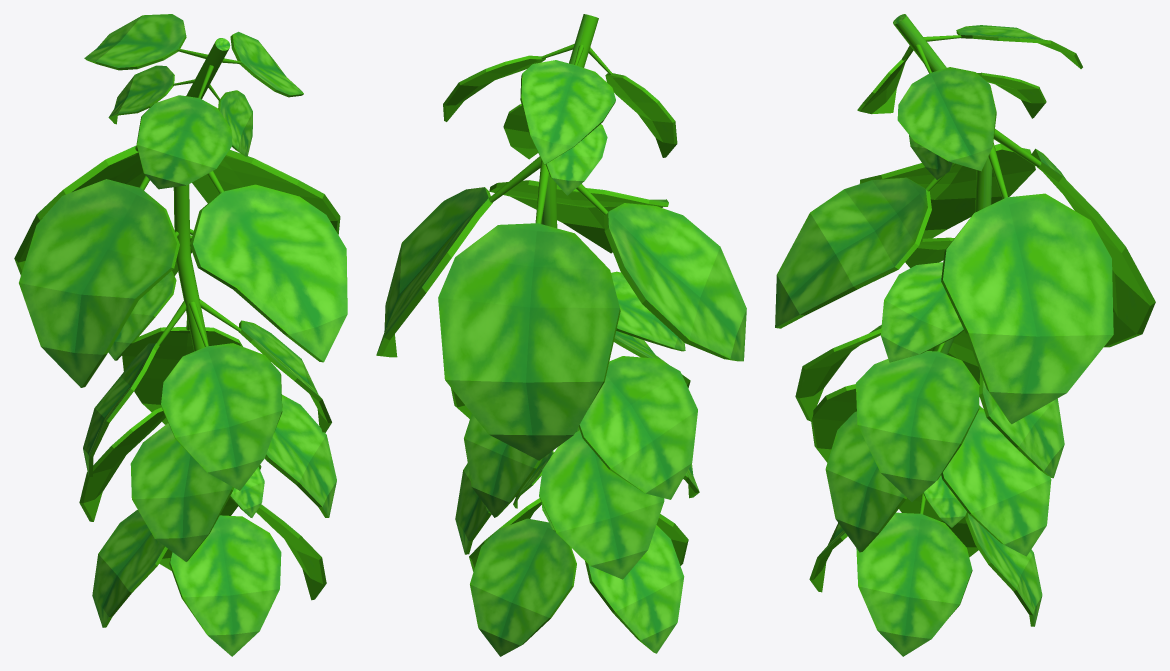
File: HangPlant02.glb
3 renders of one model, left to right at view 1: azimuth 30°, elevation 25°; view 2: azimuth 150°, elevation 25°; view 3: azimuth 270°, elevation 25°, orthographic. The views are drawn at different scales.
Parts seen in each view (by area): view 1: Plan01.001; view 2: Plan01.001; view 3: Plan01.001.
Boxes of the visible parts, x1,y1,x2,y2 form: Plan01.001: (14,14,347,656); Plan01.001: (376,14,746,656); Plan01.001: (775,14,1155,656).
Size of the model in its own units: 0.375 by 0.6662 by 0.3831.
1 material, 1 textured.
